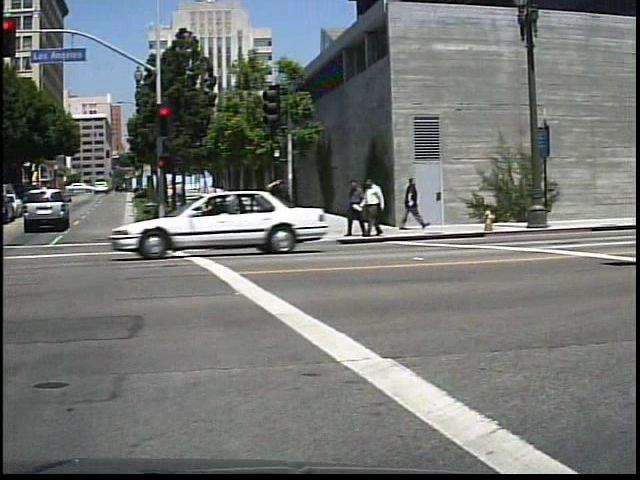person: (400, 172, 429, 232)
